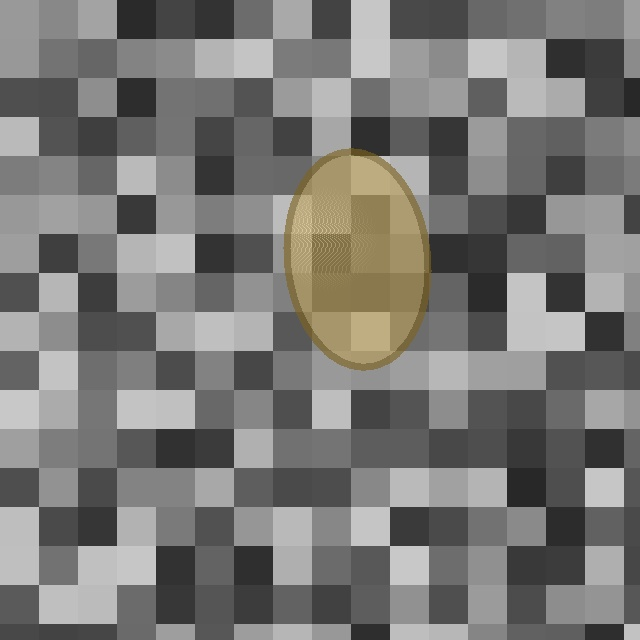lens: (287, 152, 427, 366)
